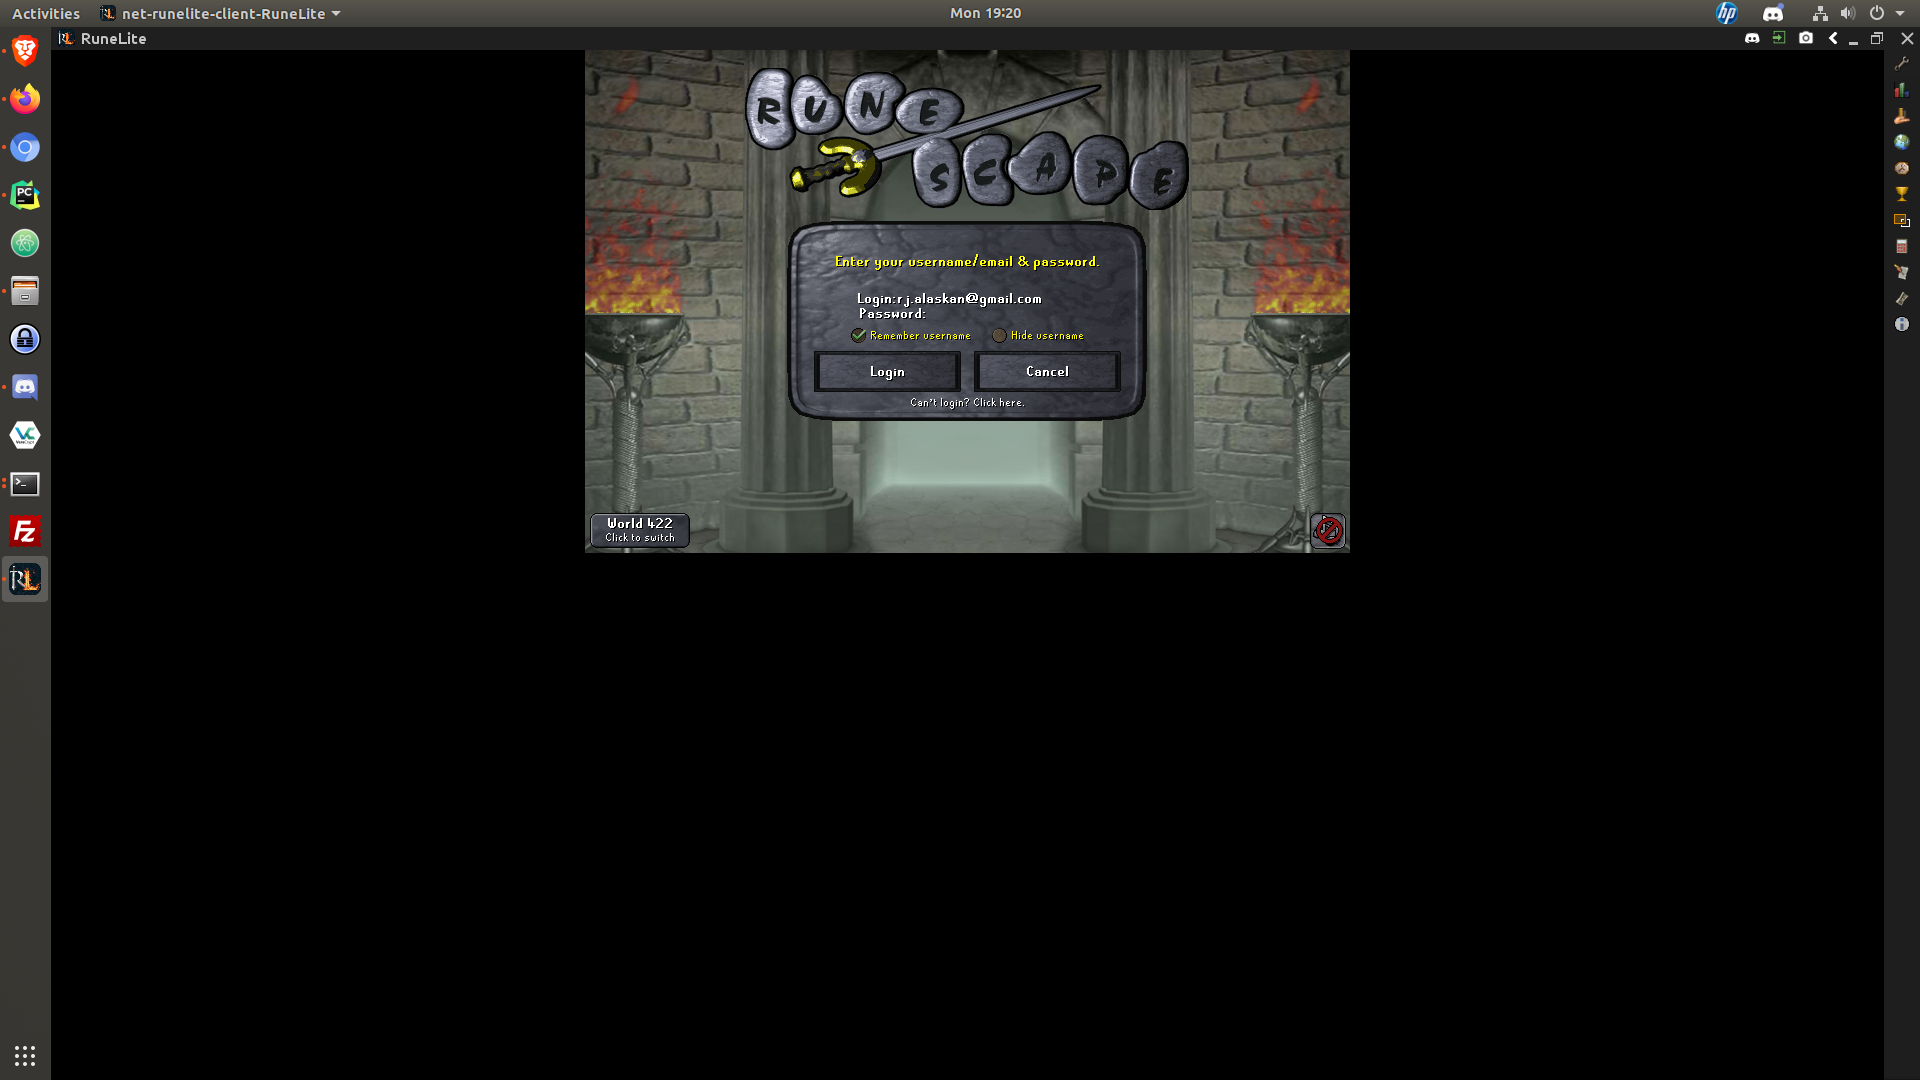login_Cancel: (1013, 357, 1087, 388)
login_Login: (851, 357, 931, 389)
login_WorldSwitcher: (597, 516, 682, 547)
login_textbox_Login: (855, 291, 914, 309)
login_textbox_Password: (855, 306, 953, 324)
